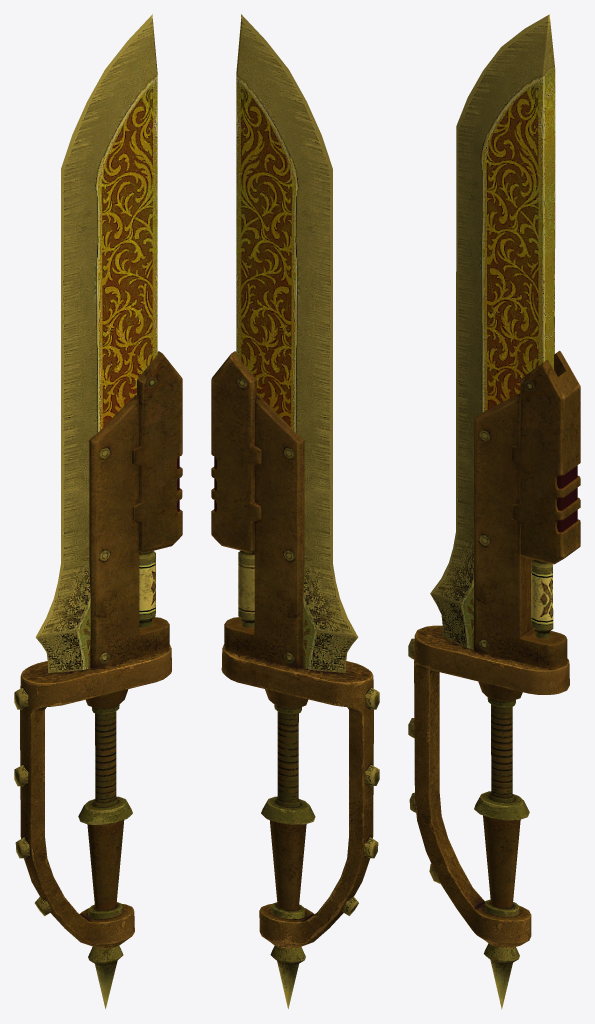
The model's file is bs_caxe006.obj.
The picture shows the model from 3 angles, left to right: view 1: azimuth 30°, elevation 25°; view 2: azimuth 150°, elevation 25°; view 3: azimuth 330°, elevation 25°; orthographic projection. The views are drawn at different scales.
Parts seen in each view (by area): view 1: bs_caxe006_001_LOD_1, bs_caxe006_000_LOD_1; view 2: bs_caxe006_001_LOD_1, bs_caxe006_000_LOD_1; view 3: bs_caxe006_001_LOD_1, bs_caxe006_000_LOD_1.
Part boxes in pixels (x1,y1,x2,y2): bs_caxe006_001_LOD_1: [14, 14, 182, 948]; bs_caxe006_000_LOD_1: [88, 945, 123, 1008]; bs_caxe006_001_LOD_1: [211, 14, 379, 948]; bs_caxe006_000_LOD_1: [270, 945, 305, 1008]; bs_caxe006_001_LOD_1: [408, 14, 580, 947]; bs_caxe006_000_LOD_1: [484, 943, 519, 1009].
Bounding box in the file's own units: 43.98 × 263 × 12.59.
